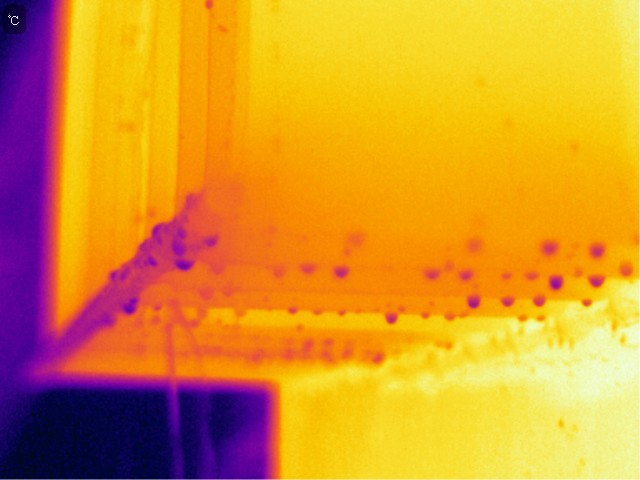Water: (459, 290, 489, 311), (616, 257, 638, 283), (329, 264, 359, 283), (298, 256, 318, 280), (496, 292, 520, 310), (422, 265, 446, 283), (586, 273, 610, 290), (585, 243, 609, 260), (283, 300, 303, 320), (537, 240, 564, 254), (382, 309, 402, 327), (529, 292, 550, 309), (456, 266, 476, 282), (575, 296, 599, 309), (547, 273, 565, 289), (417, 310, 435, 323)
